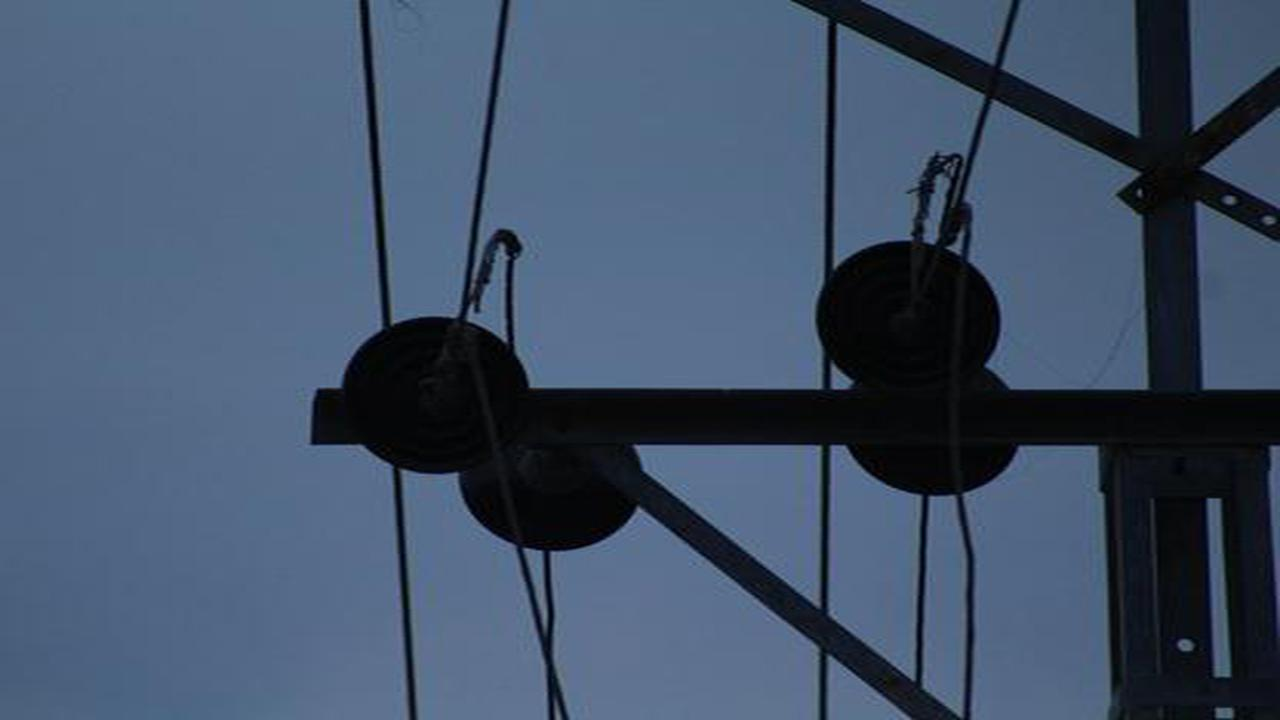insulator_disc: (807, 234, 1005, 392), (340, 315, 534, 475)
